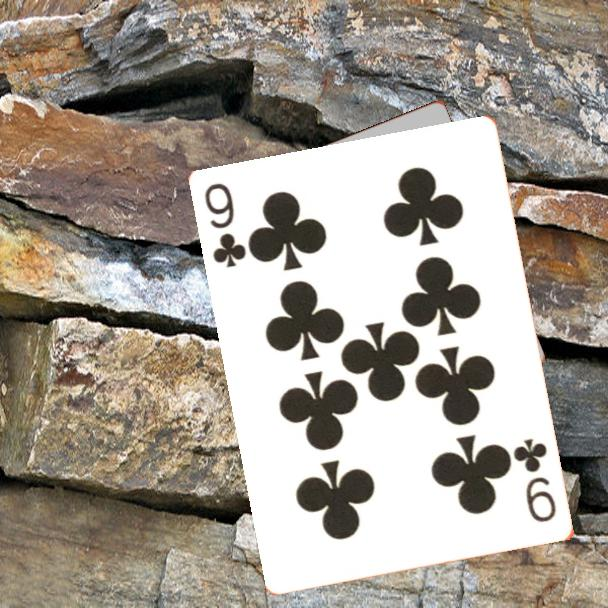c09: (201, 179, 250, 271), (511, 435, 560, 526)
